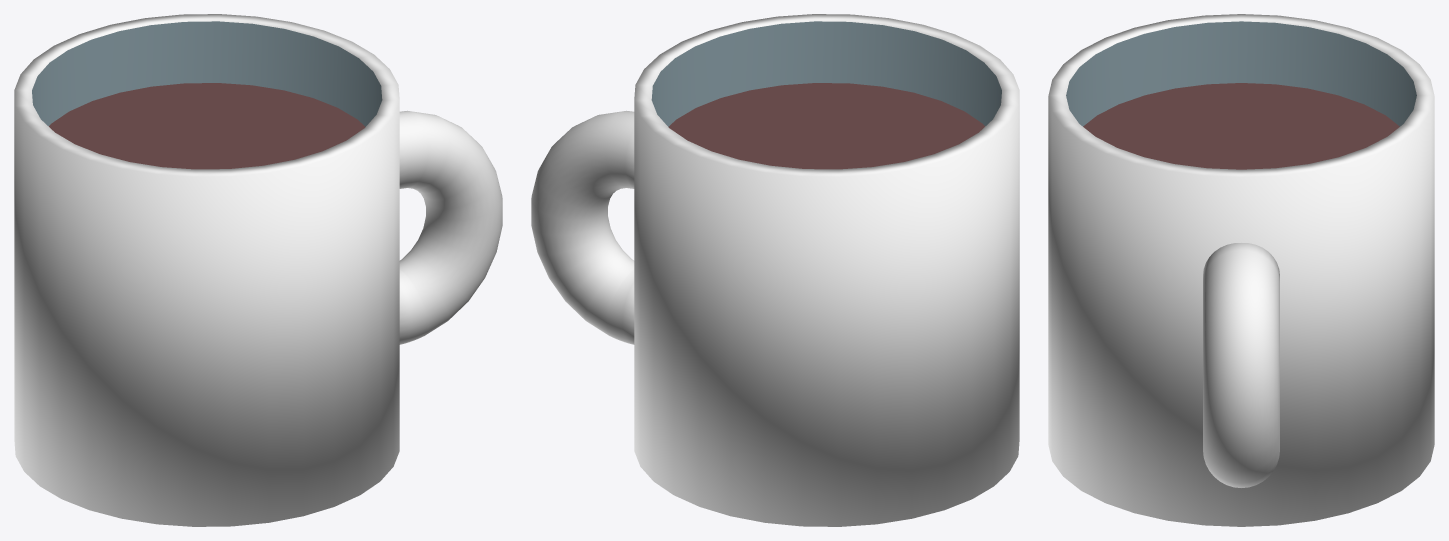
File: cup.glb
The picture shows the model from 3 angles, left to right: view 1: azimuth 30°, elevation 25°; view 2: azimuth 150°, elevation 25°; view 3: azimuth 270°, elevation 25°; orthographic projection.
Visible parts, largest first — view 1: Cylinder, Cylinder.001, Cylinder.002; view 2: Cylinder, Cylinder.001, Cylinder.002; view 3: Cylinder, Cylinder.001, Cylinder.002.
Part boxes in pixels (x1=…): Cylinder: x1=14, y1=14, x2=399, y2=526; Cylinder.001: x1=49, y1=83, x2=365, y2=169; Cylinder.002: x1=399, y1=110, x2=502, y2=344; Cylinder: x1=634, y1=14, x2=1019, y2=526; Cylinder.001: x1=668, y1=83, x2=984, y2=169; Cylinder.002: x1=531, y1=110, x2=634, y2=344; Cylinder: x1=1048, y1=14, x2=1434, y2=526; Cylinder.001: x1=1083, y1=83, x2=1399, y2=169; Cylinder.002: x1=1203, y1=243, x2=1279, y2=487.
Size of the model in its own units: 2.74 by 2 by 2.
